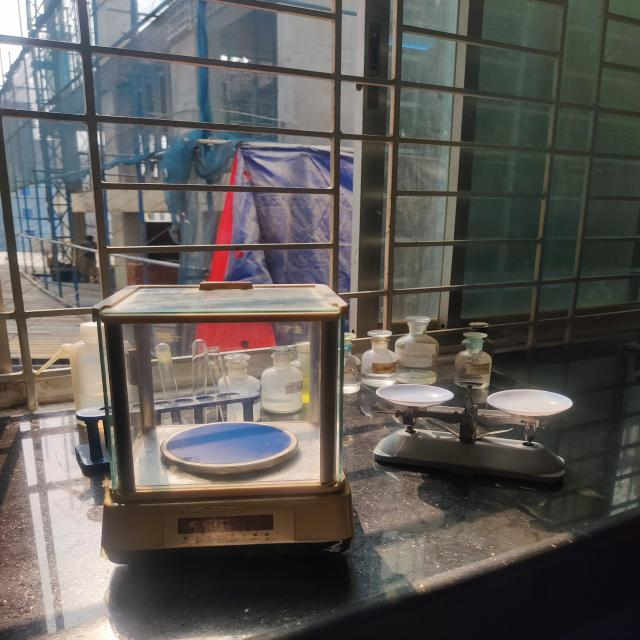Mechanical_Balance_Scale: (367, 370, 584, 491)
Precision_Weight_Scale: (78, 270, 358, 560)
